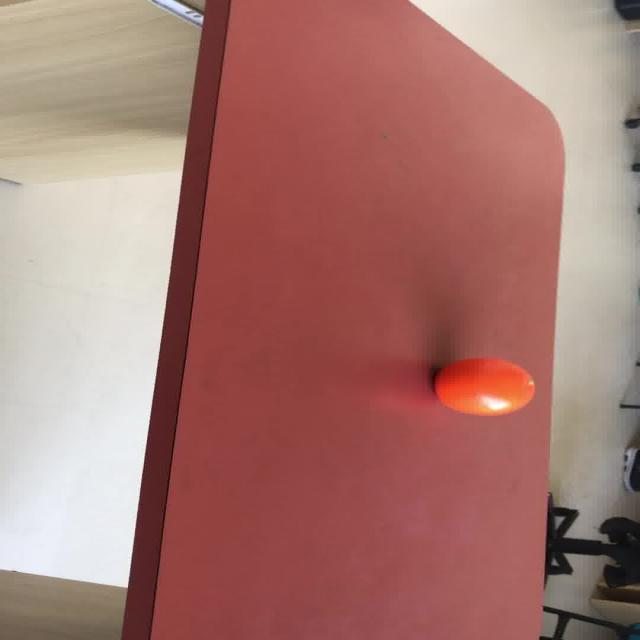orange: (432, 357, 535, 416)
